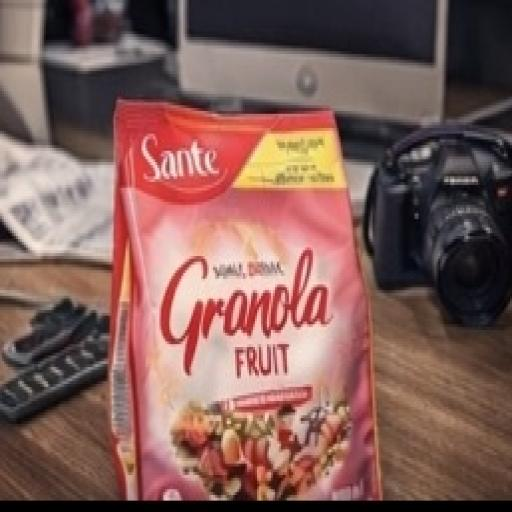granola: (80, 67, 392, 503)
